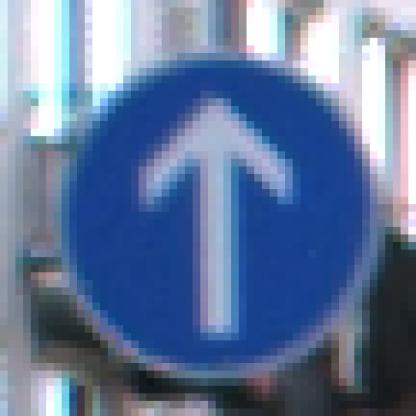AheadOnly: (47, 47, 379, 380)
